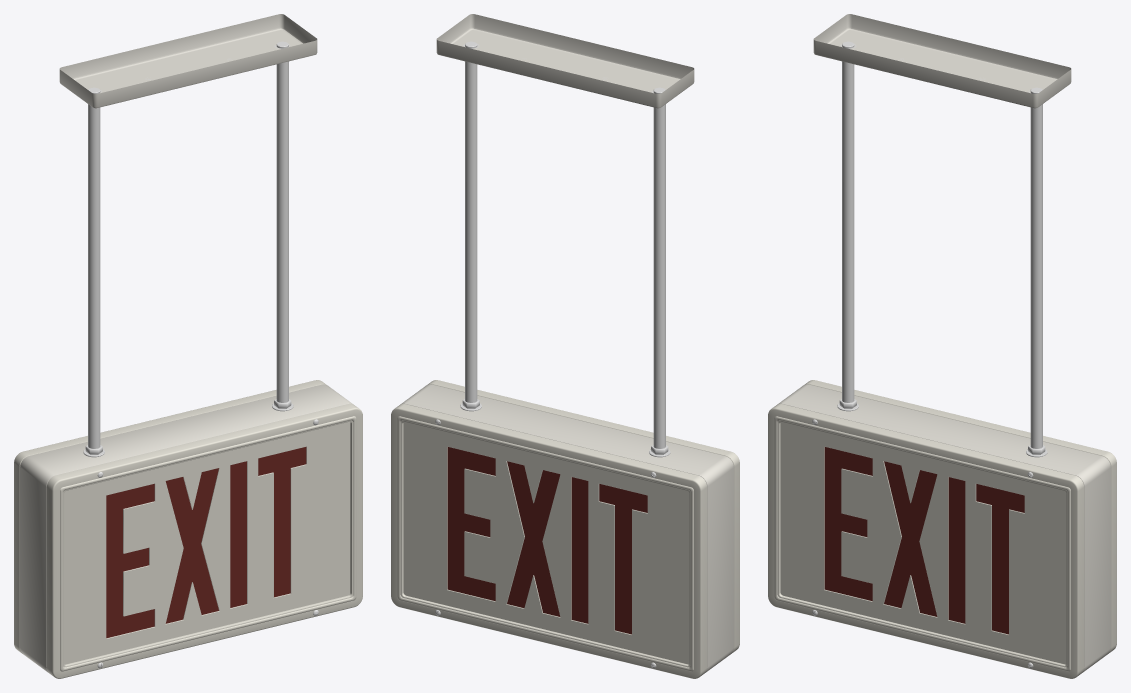
The model's file is Kit_ExitSign_Hanging_Dead.fbx.
The picture shows the model from 3 angles, left to right: view 1: azimuth 30°, elevation 25°; view 2: azimuth 150°, elevation 25°; view 3: azimuth 330°, elevation 25°; orthographic projection.
Visible parts, largest first — view 1: Kit_ExitSign_Hanging_LOD0; view 2: Kit_ExitSign_Hanging_LOD0; view 3: Kit_ExitSign_Hanging_LOD0.
Part boxes in pixels (x1=…): Kit_ExitSign_Hanging_LOD0: x1=14, y1=14, x2=362, y2=678; Kit_ExitSign_Hanging_LOD0: x1=391, y1=14, x2=739, y2=678; Kit_ExitSign_Hanging_LOD0: x1=768, y1=14, x2=1116, y2=678.
Size of what is drawn, in the model's own units: 0.346 by 0.612 by 0.0789.
